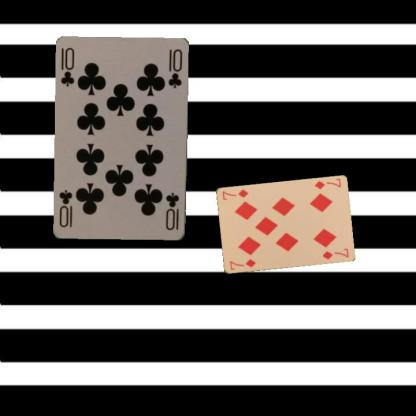10c: (58, 45, 76, 88), (163, 190, 181, 232)
7d: (312, 176, 342, 191), (227, 257, 257, 271)
